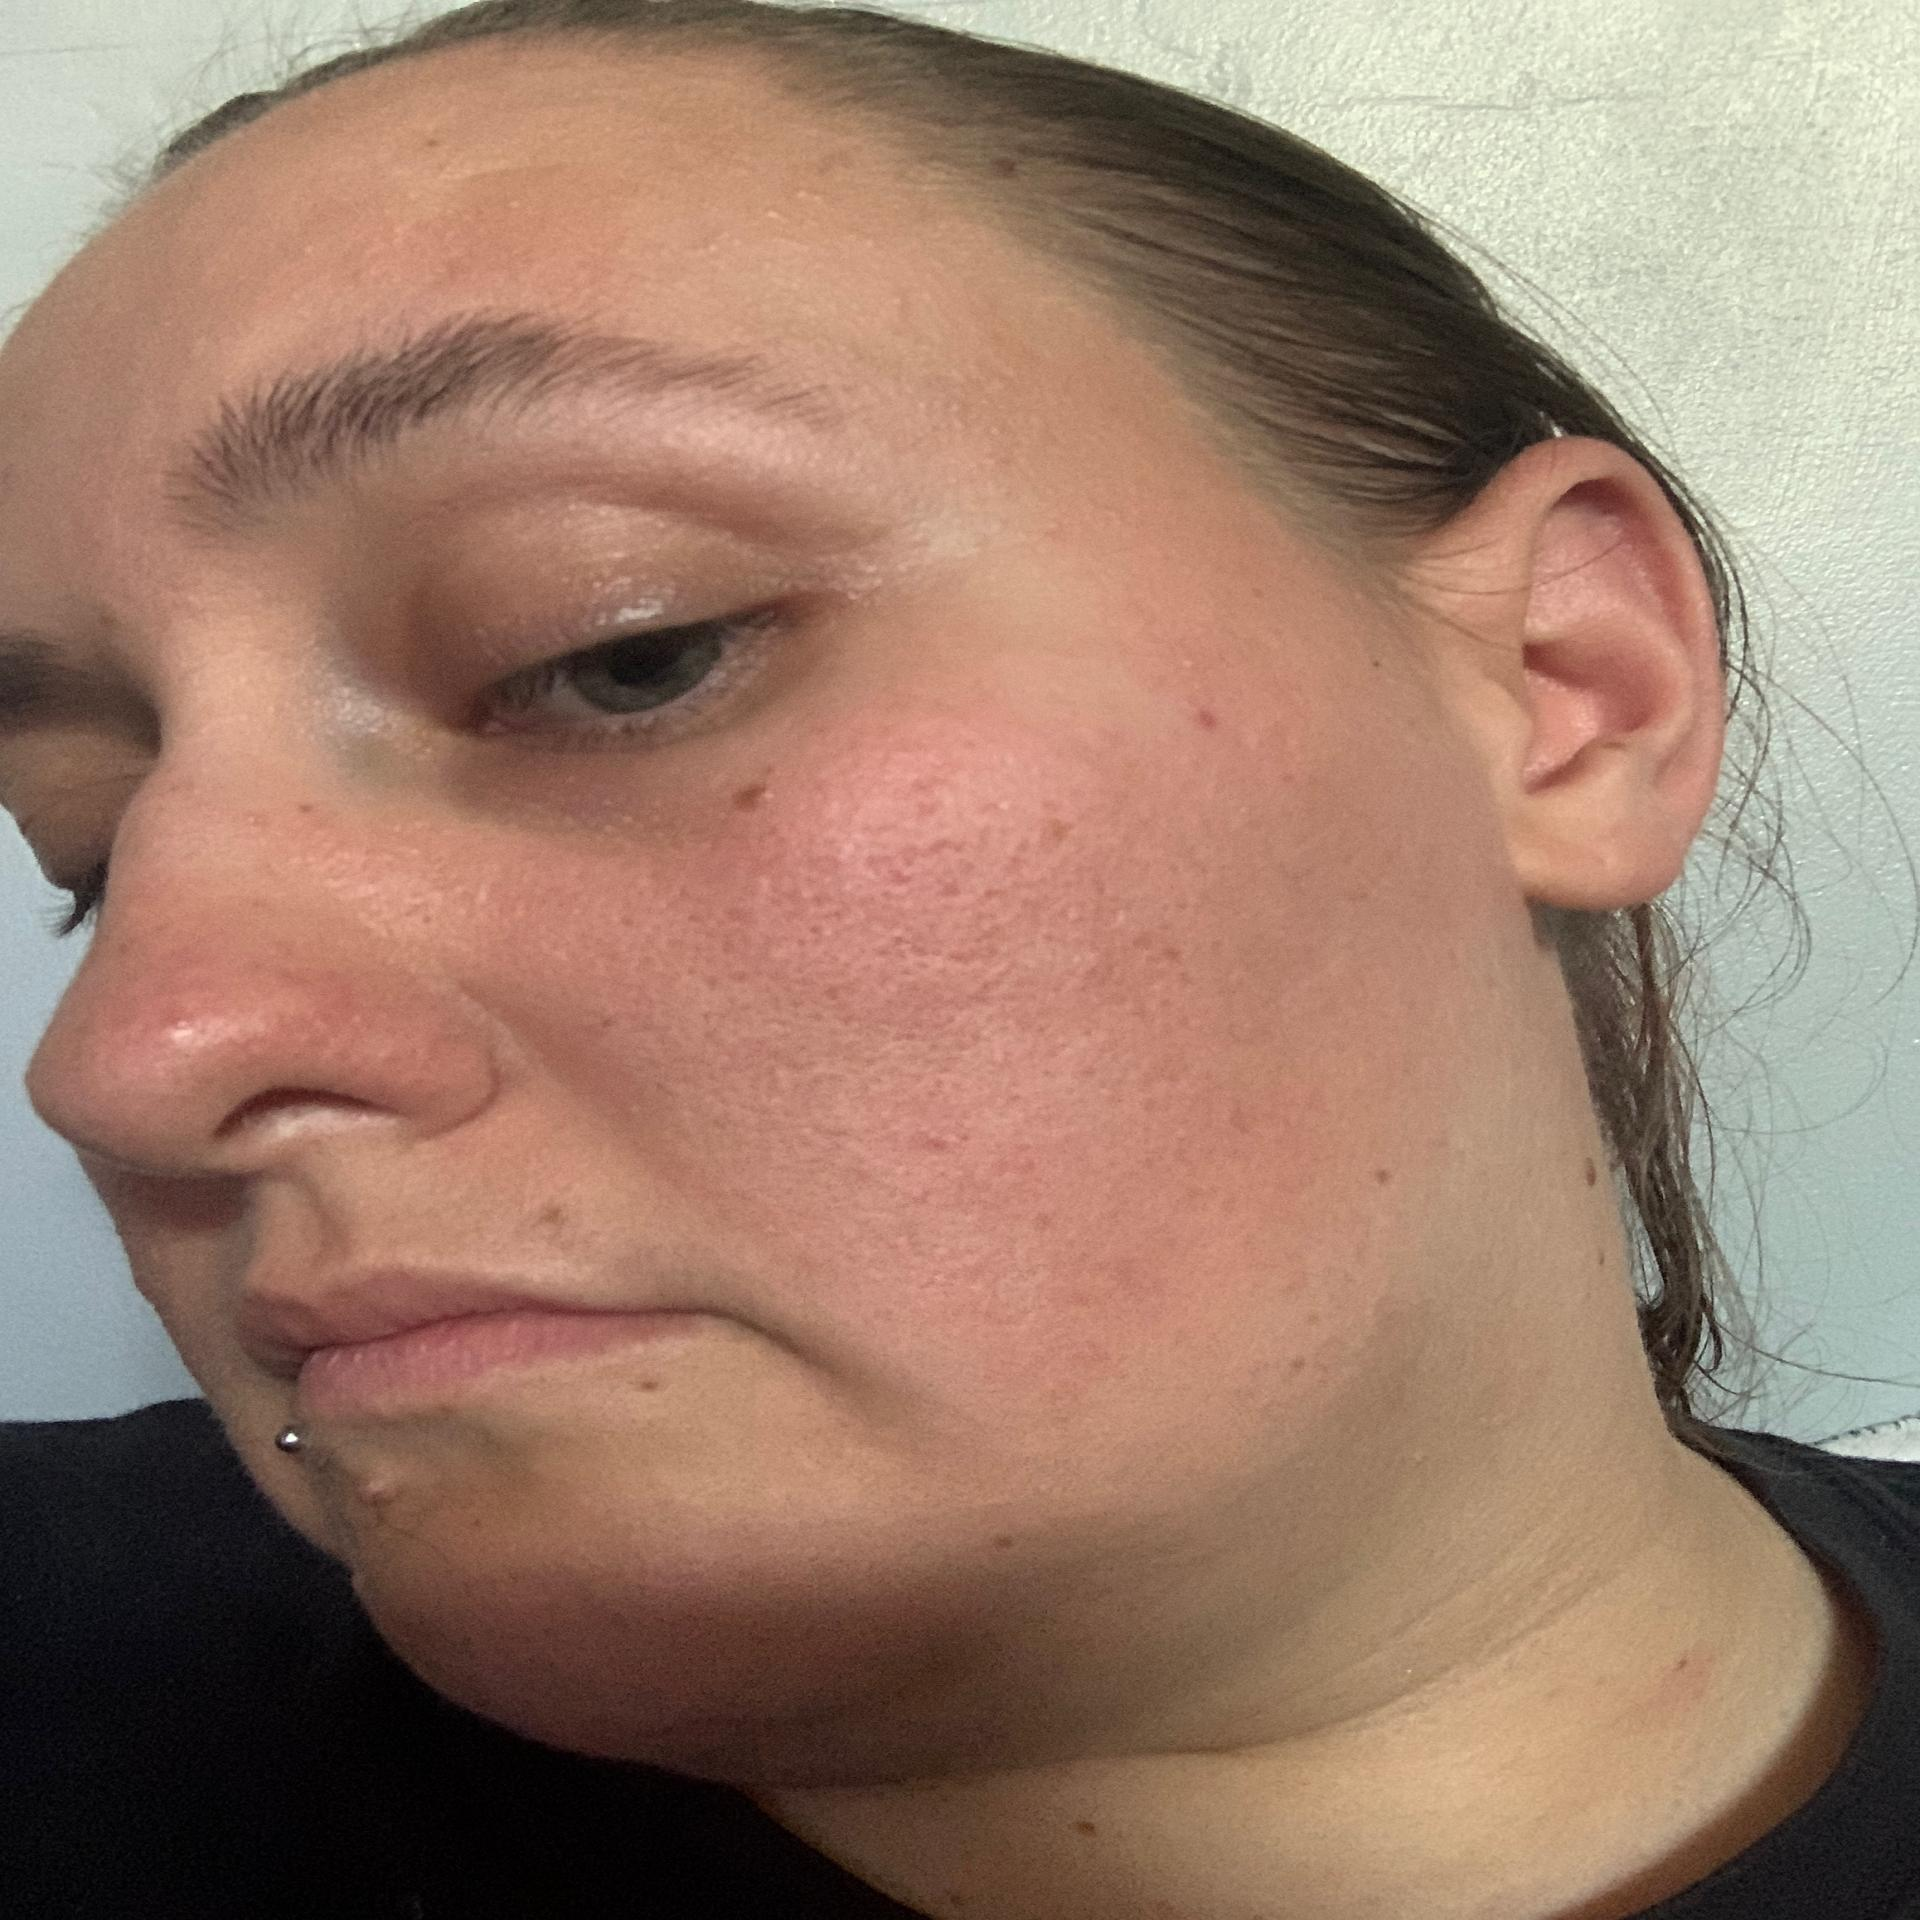Acne: (914, 1116, 986, 1169), (155, 995, 220, 1053), (774, 179, 819, 225)
Englarged Pores: (645, 793, 1194, 1199)
